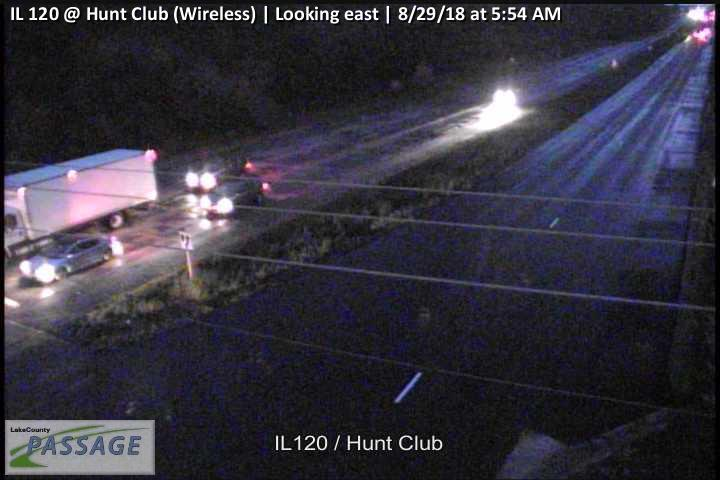Sedan: (18, 233, 113, 280), (202, 173, 264, 212)
Truck: (1, 144, 159, 258)
